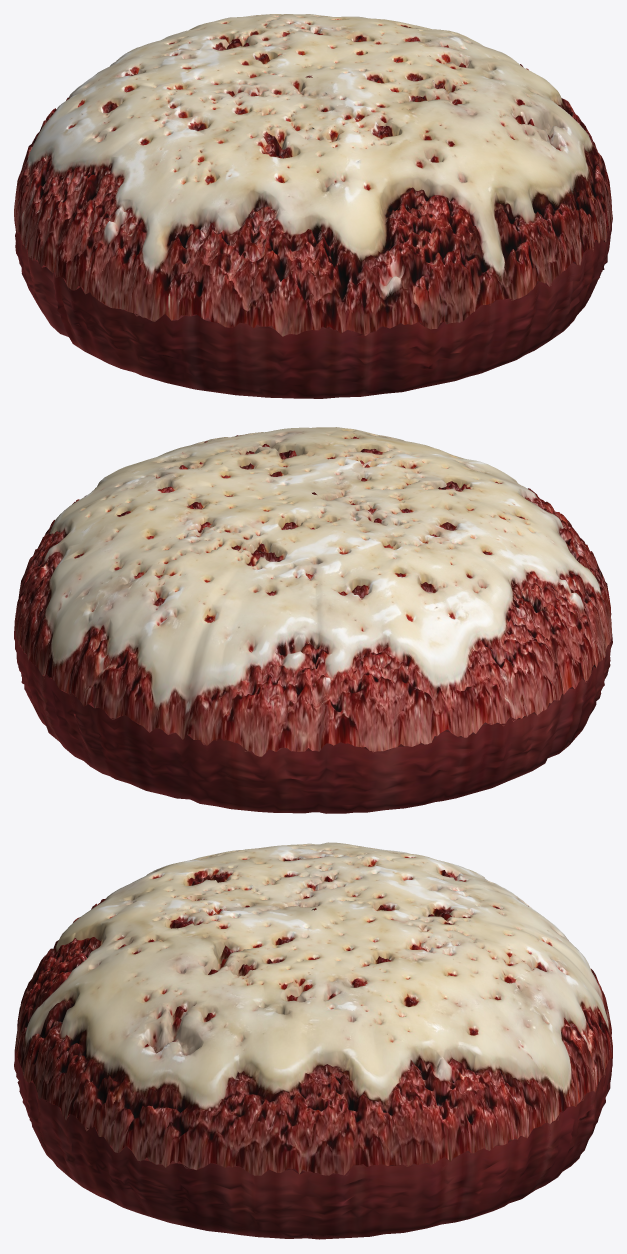
Rendered from cookie-red-velvet.glb.
3 views of the same model, one above another, from view 1: azimuth 30°, elevation 25°; view 2: azimuth 150°, elevation 25°; view 3: azimuth 270°, elevation 25° (orthographic).
Visible parts, largest first — view 1: base | V3 | Photographic sculpt | red-velvet.001, base | V3 | Craggy baked edge | red-velvet.001; view 2: base | V3 | Photographic sculpt | red-velvet.001, base | V3 | Craggy baked edge | red-velvet.001; view 3: base | V3 | Photographic sculpt | red-velvet.001, base | V3 | Craggy baked edge | red-velvet.001.
Part boxes in pixels (x1=…): base | V3 | Photographic sculpt | red-velvet.001: x1=14, y1=14, x2=612, y2=336; base | V3 | Craggy baked edge | red-velvet.001: x1=14, y1=202, x2=612, y2=398; base | V3 | Photographic sculpt | red-velvet.001: x1=14, y1=427, x2=611, y2=756; base | V3 | Craggy baked edge | red-velvet.001: x1=14, y1=607, x2=612, y2=813; base | V3 | Photographic sculpt | red-velvet.001: x1=14, y1=842, x2=612, y2=1175; base | V3 | Craggy baked edge | red-velvet.001: x1=14, y1=1026, x2=612, y2=1239.
Size of the model in its own units: 0.0692 by 0.0262 by 0.0679.
Materials: 2 (2 with a texture image).
